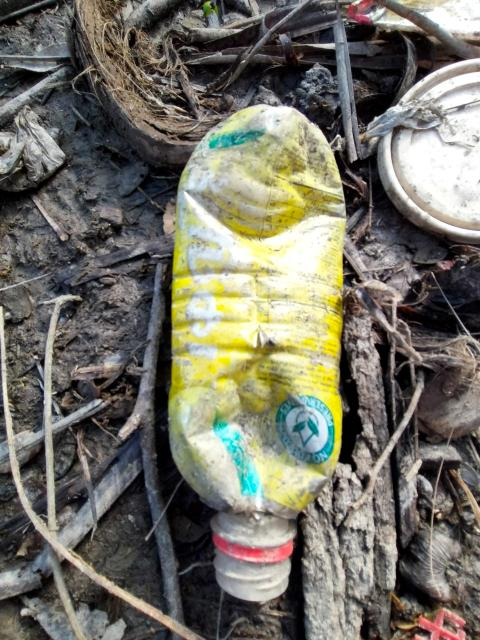bottle: (178, 91, 320, 629)
